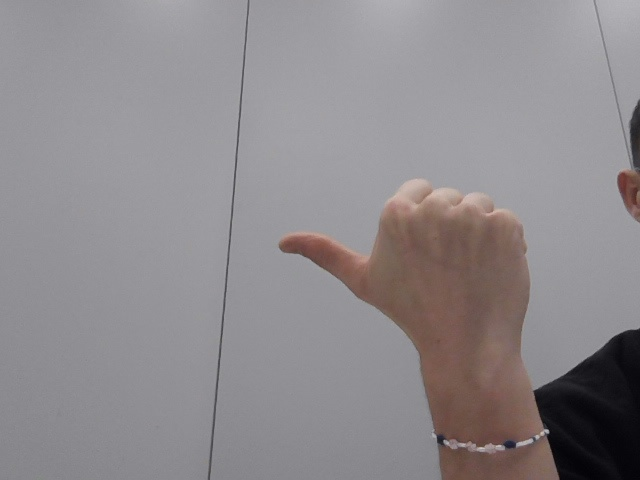right: (259, 167, 569, 398)
